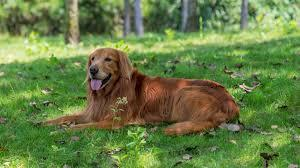Dog: (85, 46, 132, 95)
